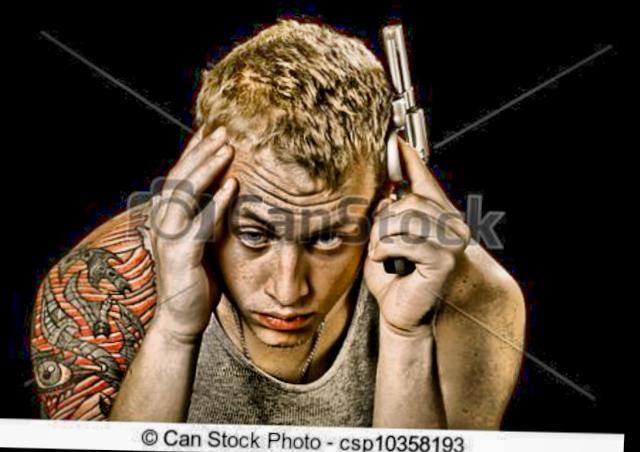pistol: (362, 20, 437, 276)
